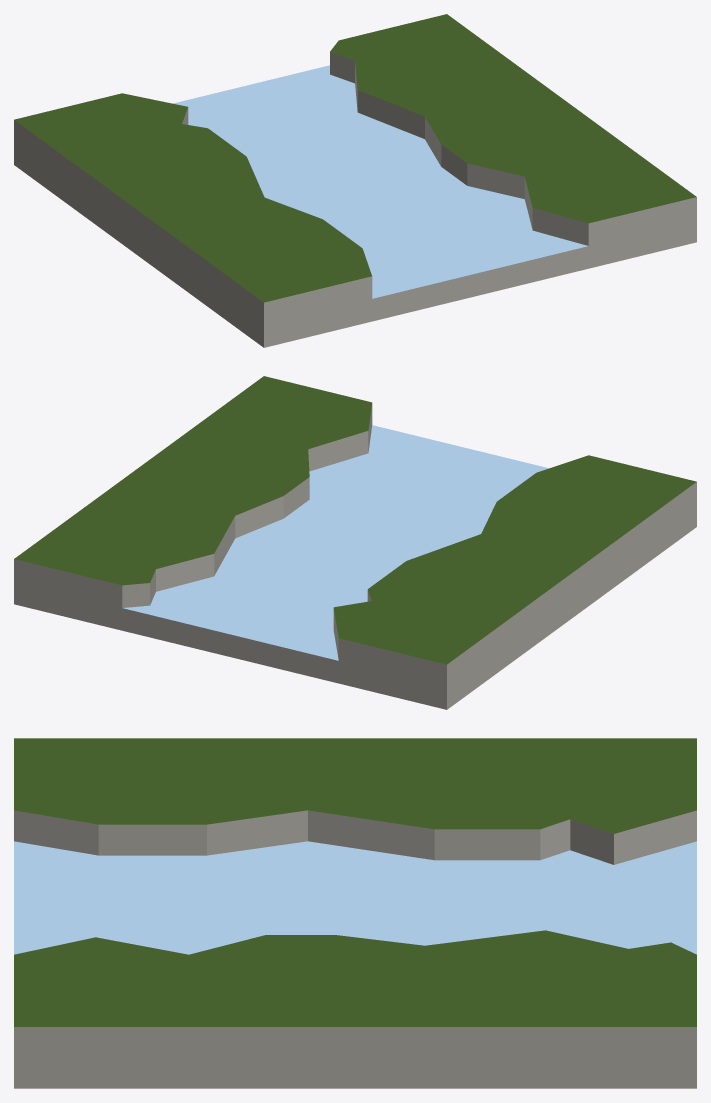
File: Terrain_Modular_Tiles_Grass_Rock_River_Straight_01.fbx
3 renders of one model, top to bottom at view 1: azimuth 30°, elevation 25°; view 2: azimuth 150°, elevation 25°; view 3: azimuth 270°, elevation 25°, orthographic. The views are drawn at different scales.
Visible parts, largest first — view 1: Terrain_Modular_Tiles_Grass_Rock_River_Straight_01; view 2: Terrain_Modular_Tiles_Grass_Rock_River_Straight_01; view 3: Terrain_Modular_Tiles_Grass_Rock_River_Straight_01.
Boxes of the visible parts, x1,y1,x2,y2 form: Terrain_Modular_Tiles_Grass_Rock_River_Straight_01: (14, 14, 696, 347); Terrain_Modular_Tiles_Grass_Rock_River_Straight_01: (14, 376, 696, 709); Terrain_Modular_Tiles_Grass_Rock_River_Straight_01: (14, 738, 696, 1088).
Bounding box in the file's own units: 3000 × 300 × 3000.
